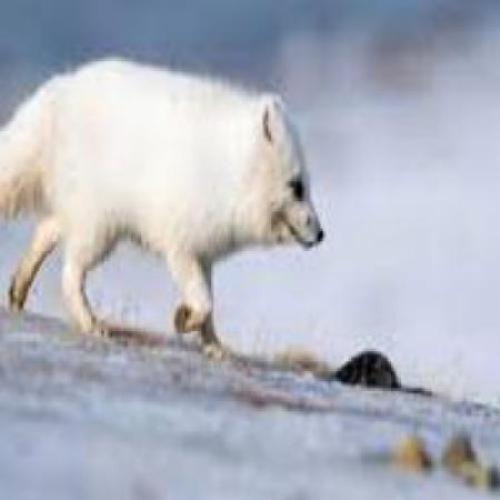arctic_fox-endangered: (0, 55, 326, 356)
